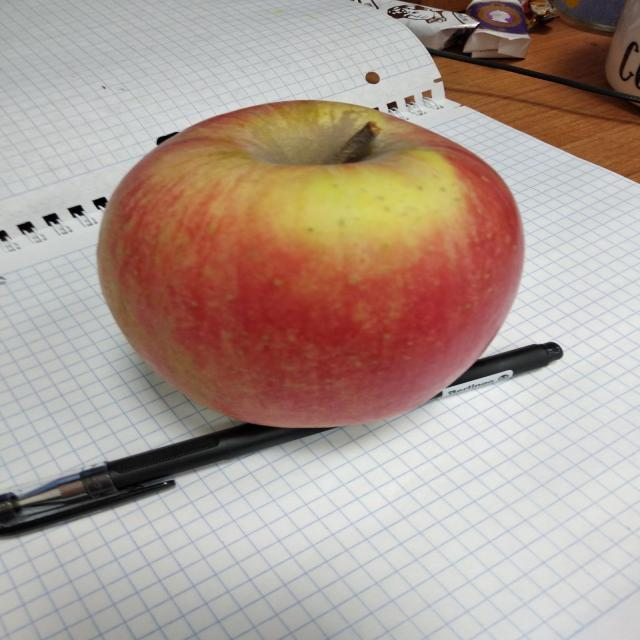Fresh Apple: (92, 102, 535, 430)
